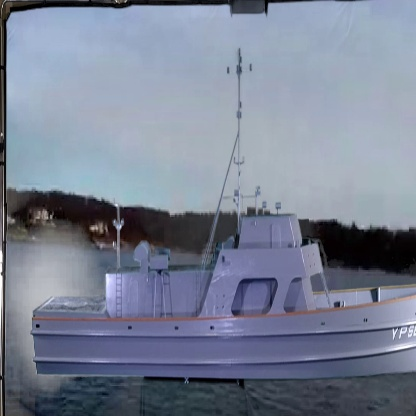YP689: (28, 39, 416, 378)
